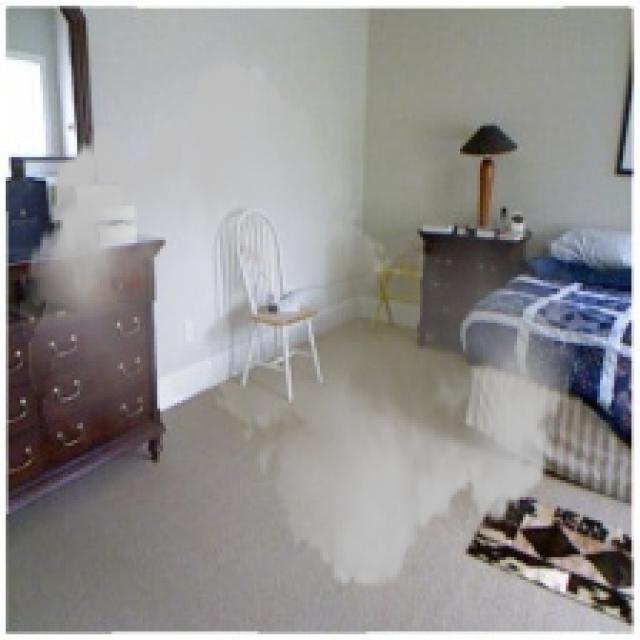smoke: (20, 43, 580, 606)
